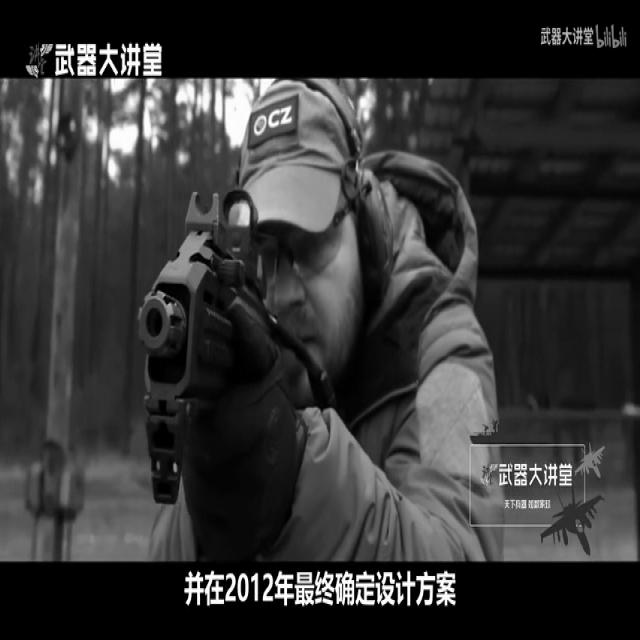Sniper: (93, 112, 403, 624)
